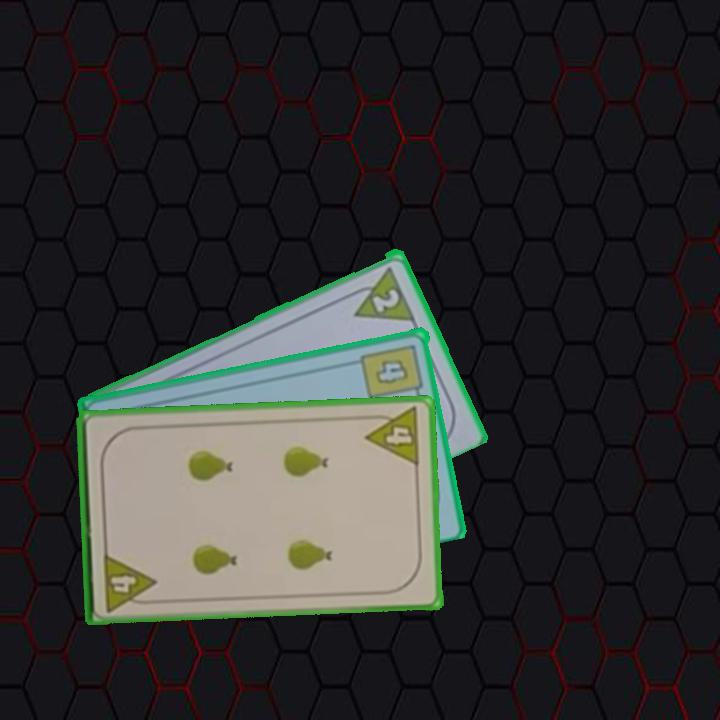2p: (368, 284, 403, 315)
4b: (358, 340, 427, 403)
4p: (362, 404, 423, 469), (99, 549, 159, 614)
